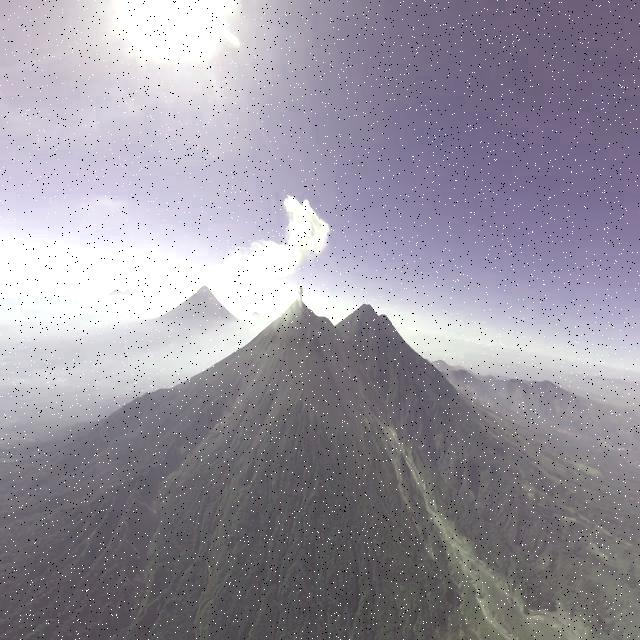Plume: (228, 194, 332, 288), (296, 285, 304, 303)
Summit: (278, 298, 318, 322)
